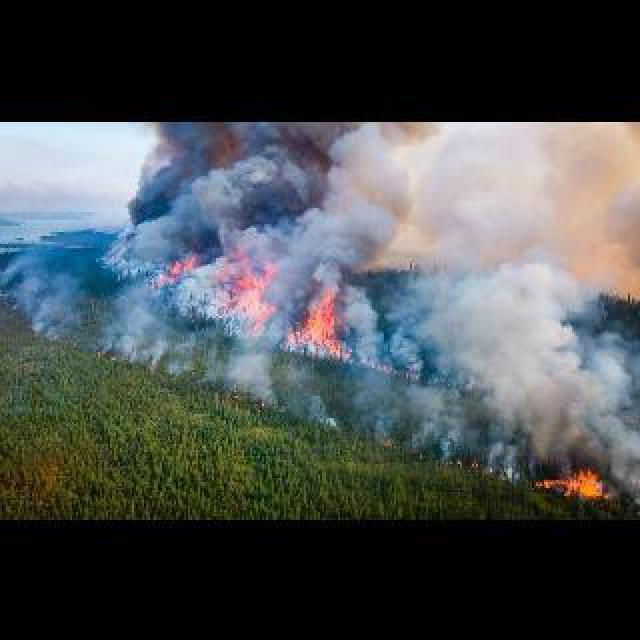Fire: (170, 252, 342, 352), (376, 436, 494, 474), (538, 470, 614, 498), (94, 346, 168, 370), (230, 392, 290, 412)
Smoke: (374, 288, 636, 477), (115, 120, 426, 272)
